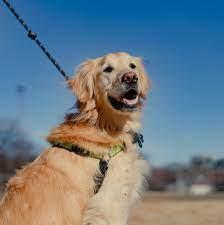Dog: (70, 49, 153, 118)
